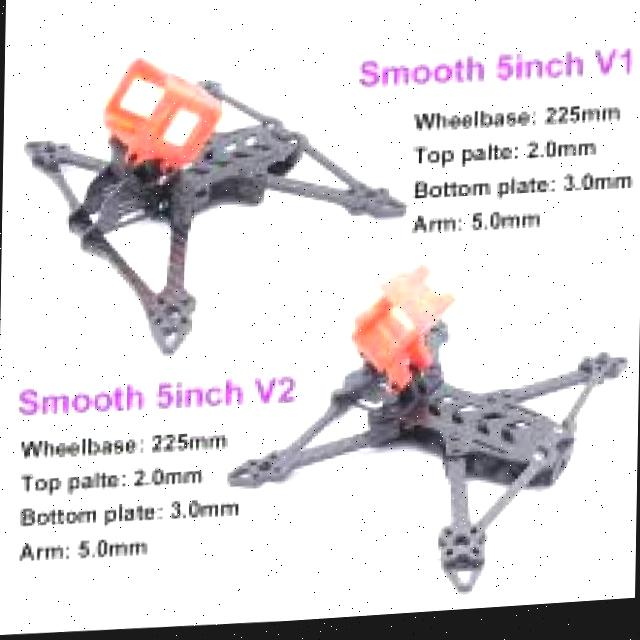drone: (222, 245, 625, 621), (17, 46, 434, 379)
